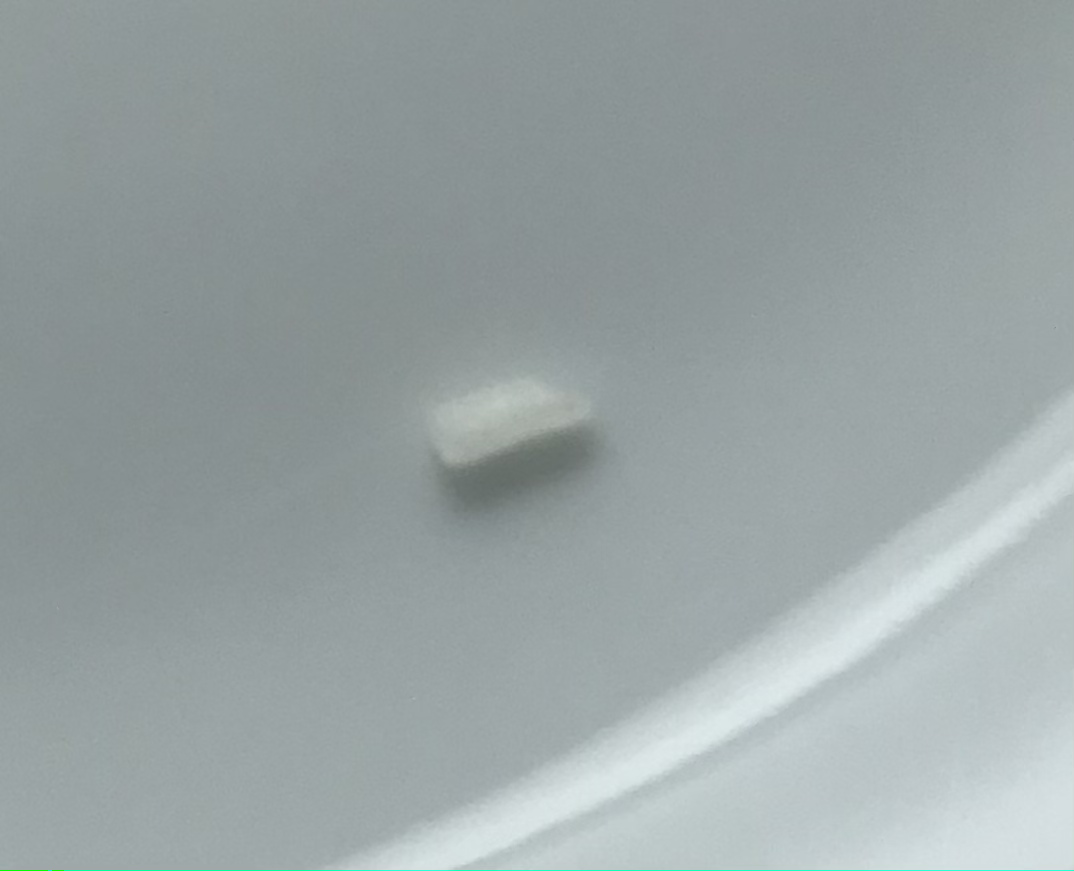Gao Tam: (418, 356, 591, 479)
